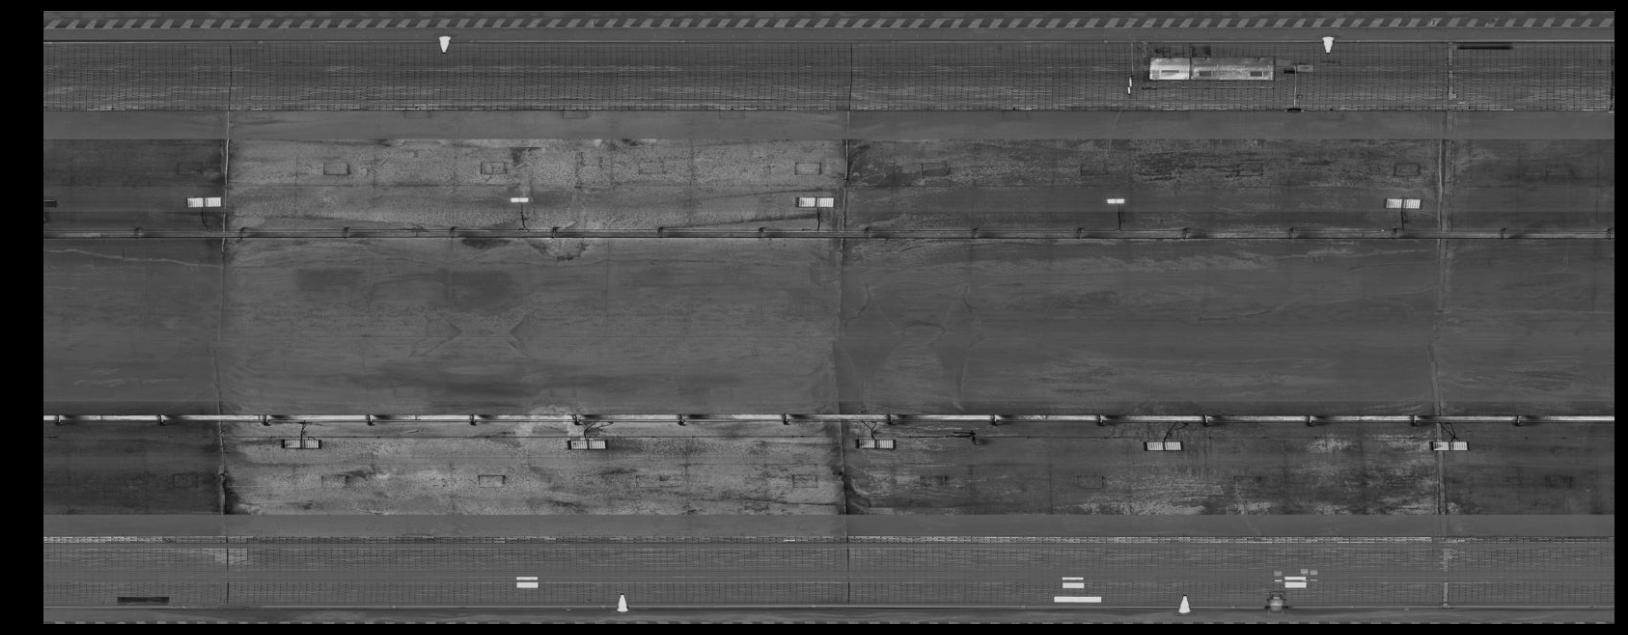light: (560, 436, 609, 455), (276, 434, 325, 453), (850, 434, 899, 453), (1138, 437, 1187, 455), (1426, 437, 1472, 454), (1379, 195, 1424, 211), (180, 192, 223, 208), (794, 193, 837, 209), (504, 195, 535, 205), (1101, 196, 1132, 206)
